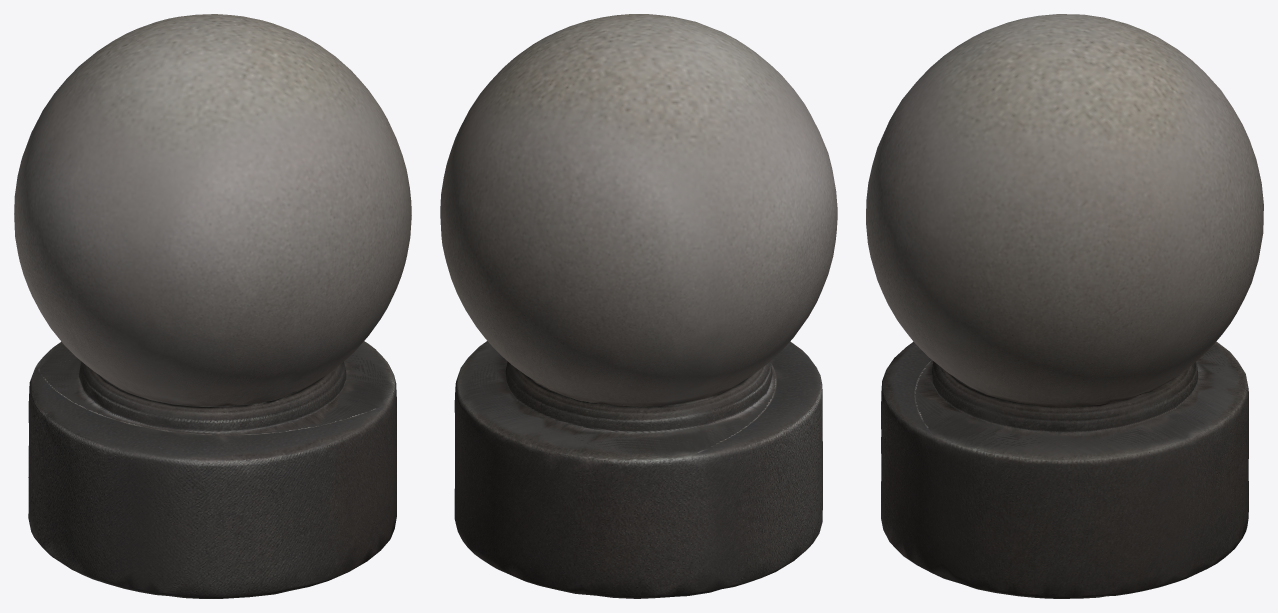
File: Prop_SuccessLightBulb.fbx
3 views of the same model, side by side, from view 1: azimuth 30°, elevation 25°; view 2: azimuth 150°, elevation 25°; view 3: azimuth 270°, elevation 25° (orthographic).
Parts seen in each view (by area): view 1: texture_mapping; view 2: texture_mapping; view 3: texture_mapping.
Boxes of the visible parts, box(x1,y1,x2,y2) form: texture_mapping: box(14, 14, 411, 598); texture_mapping: box(440, 14, 837, 598); texture_mapping: box(866, 14, 1263, 598).
Bounding box in the file's own units: 0.731 × 0.7304 × 1.
Materials: 1 (1 with a texture image).
